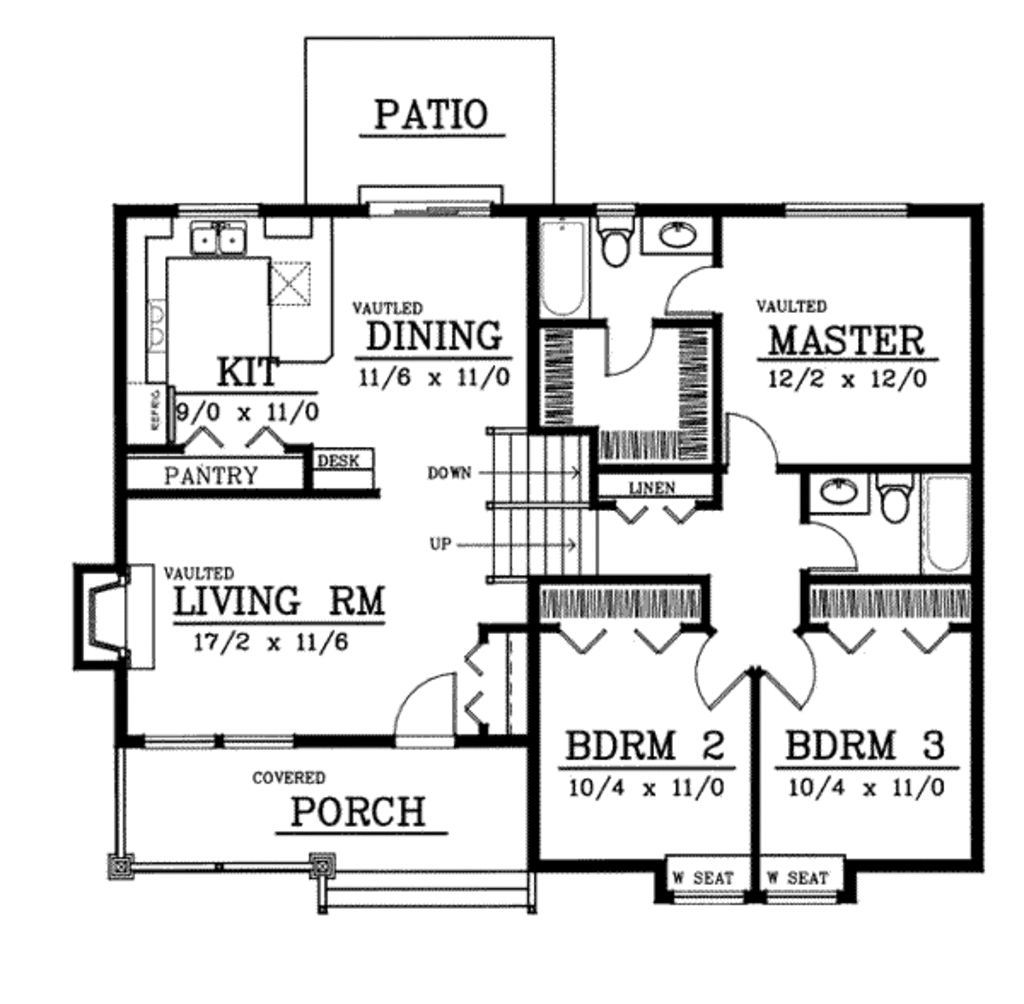door: (745, 626, 820, 716), (389, 668, 467, 751), (720, 404, 791, 484), (687, 629, 745, 718), (798, 521, 867, 581), (600, 312, 666, 374), (661, 257, 726, 315)
kitchen_bar: (119, 240, 205, 391)
large_sink: (587, 204, 633, 276), (873, 473, 912, 531)
small_sink: (637, 215, 722, 254), (797, 474, 862, 516)
stairs: (475, 420, 606, 573)
tub: (914, 471, 970, 581), (536, 212, 587, 329)
twin_sink: (180, 207, 259, 260)
window: (775, 190, 908, 226), (372, 185, 506, 216), (145, 726, 222, 754), (767, 882, 836, 904), (233, 726, 305, 746), (669, 885, 742, 902)
